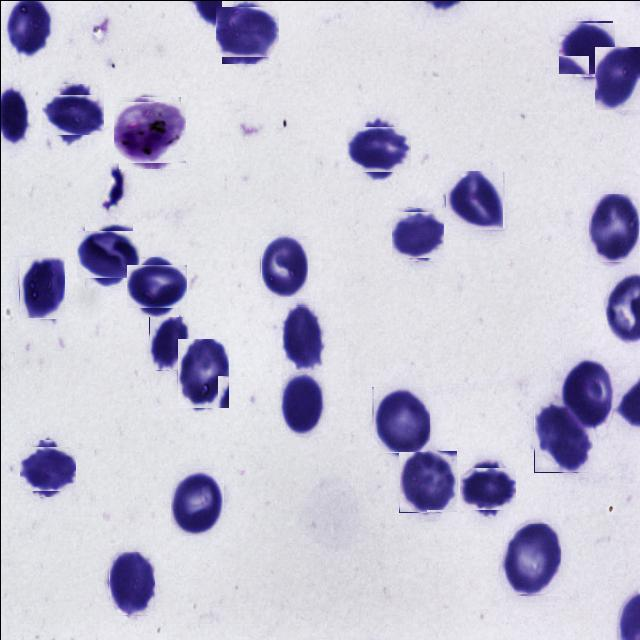red blood cell: (502, 522, 560, 594), (533, 404, 592, 472), (372, 386, 429, 452), (176, 338, 228, 408), (398, 450, 456, 512), (170, 469, 223, 535), (562, 359, 612, 428), (588, 193, 638, 262), (445, 170, 503, 228), (218, 3, 275, 60), (80, 226, 136, 282), (350, 121, 406, 176), (108, 551, 154, 615), (559, 21, 613, 75), (260, 235, 307, 297), (18, 256, 64, 318), (594, 46, 639, 109), (130, 260, 182, 312), (281, 304, 323, 368), (280, 372, 324, 433), (46, 89, 98, 140), (22, 442, 72, 493), (392, 208, 442, 258), (462, 462, 512, 512), (148, 316, 188, 370)
schizont: (116, 98, 182, 166)
